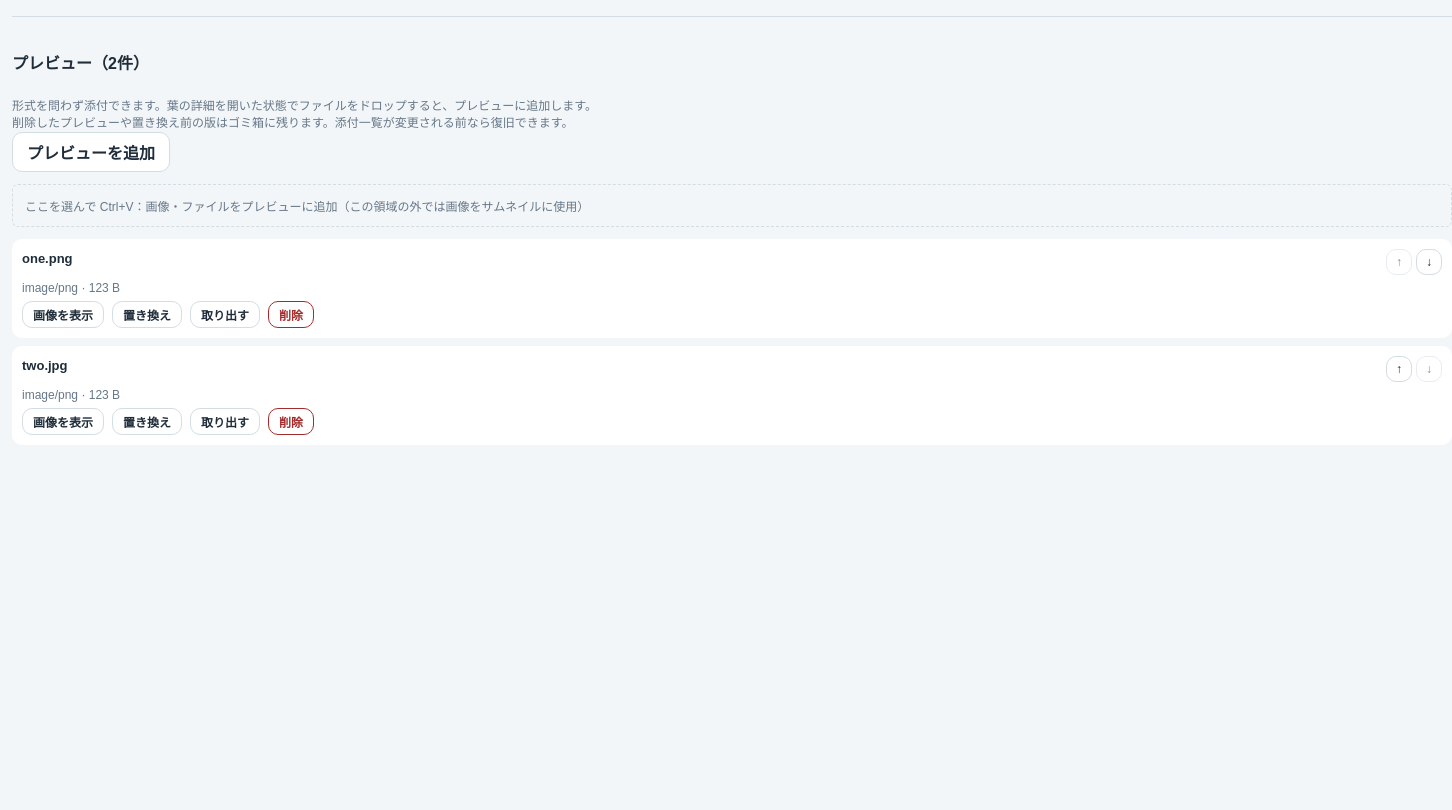
Scenario: loads only the selected image and closes the display
Click the button with aria-label "one.pngを表示".
click(63, 314)  # box [22,300,104,328]
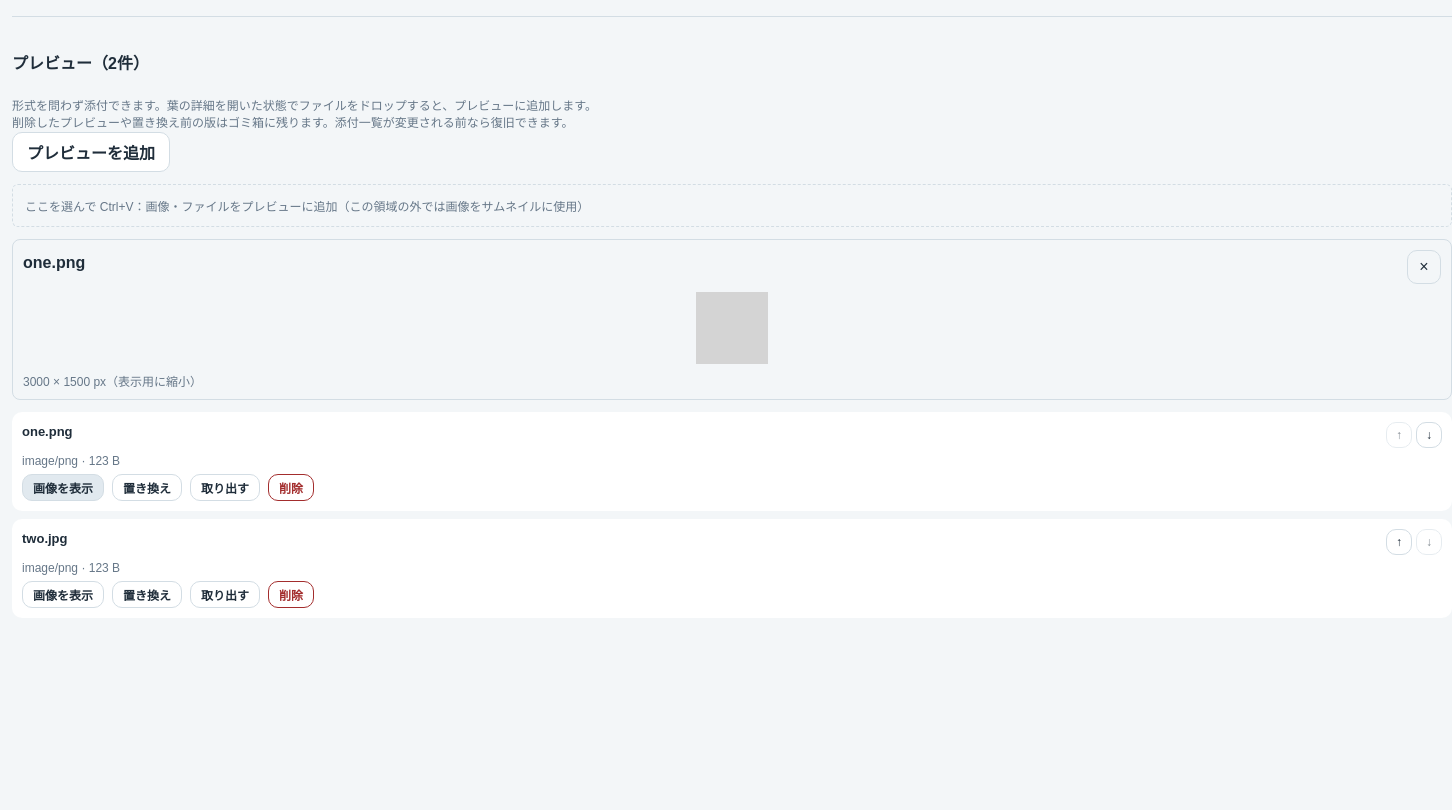
Now the text "3000 × 1500 px（表示用に縮小）" is shown, box [23,374,202,388]
Click the button named "画像表示を閉じる".
click(1424, 266)  # box [1407,250,1441,284]
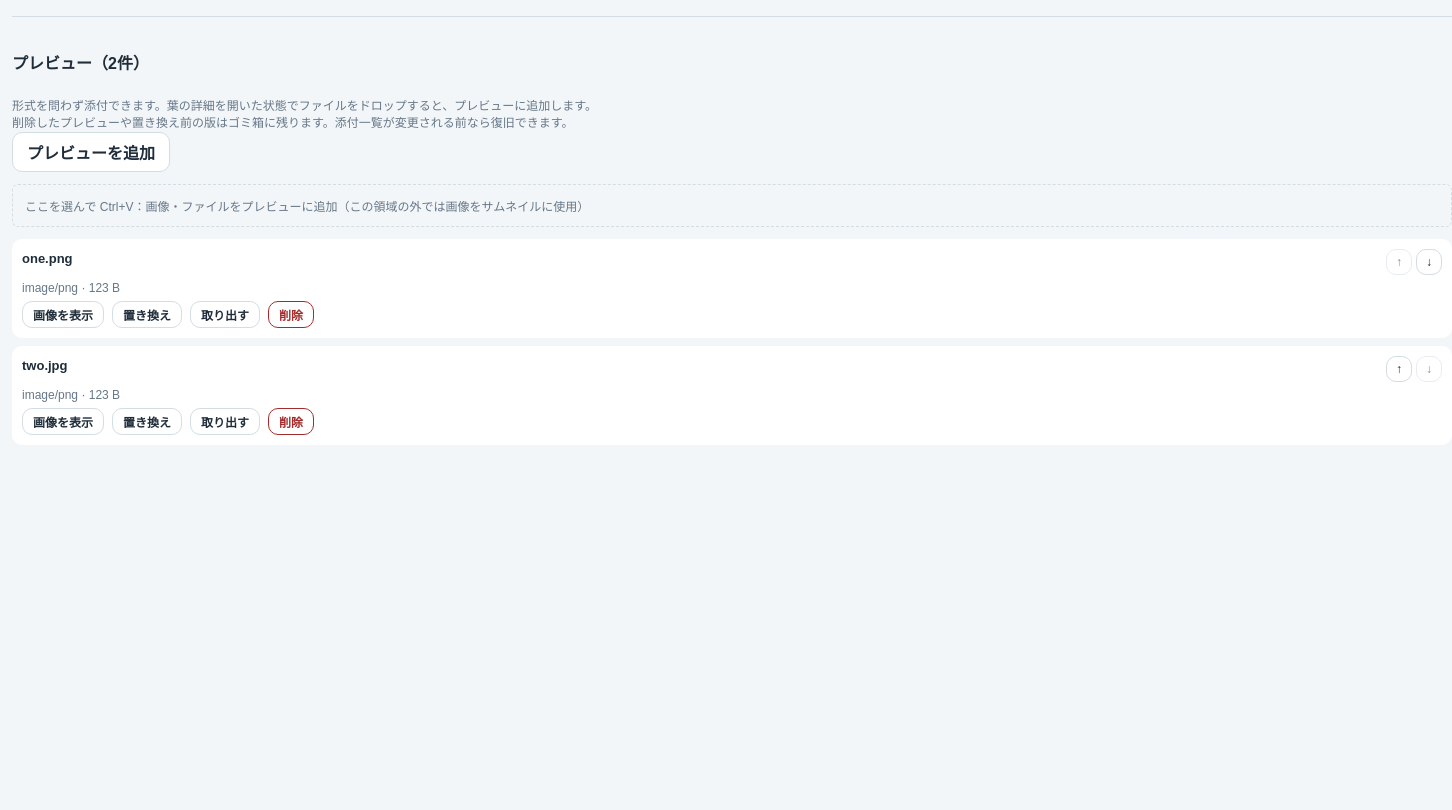
Now the picture is gone
